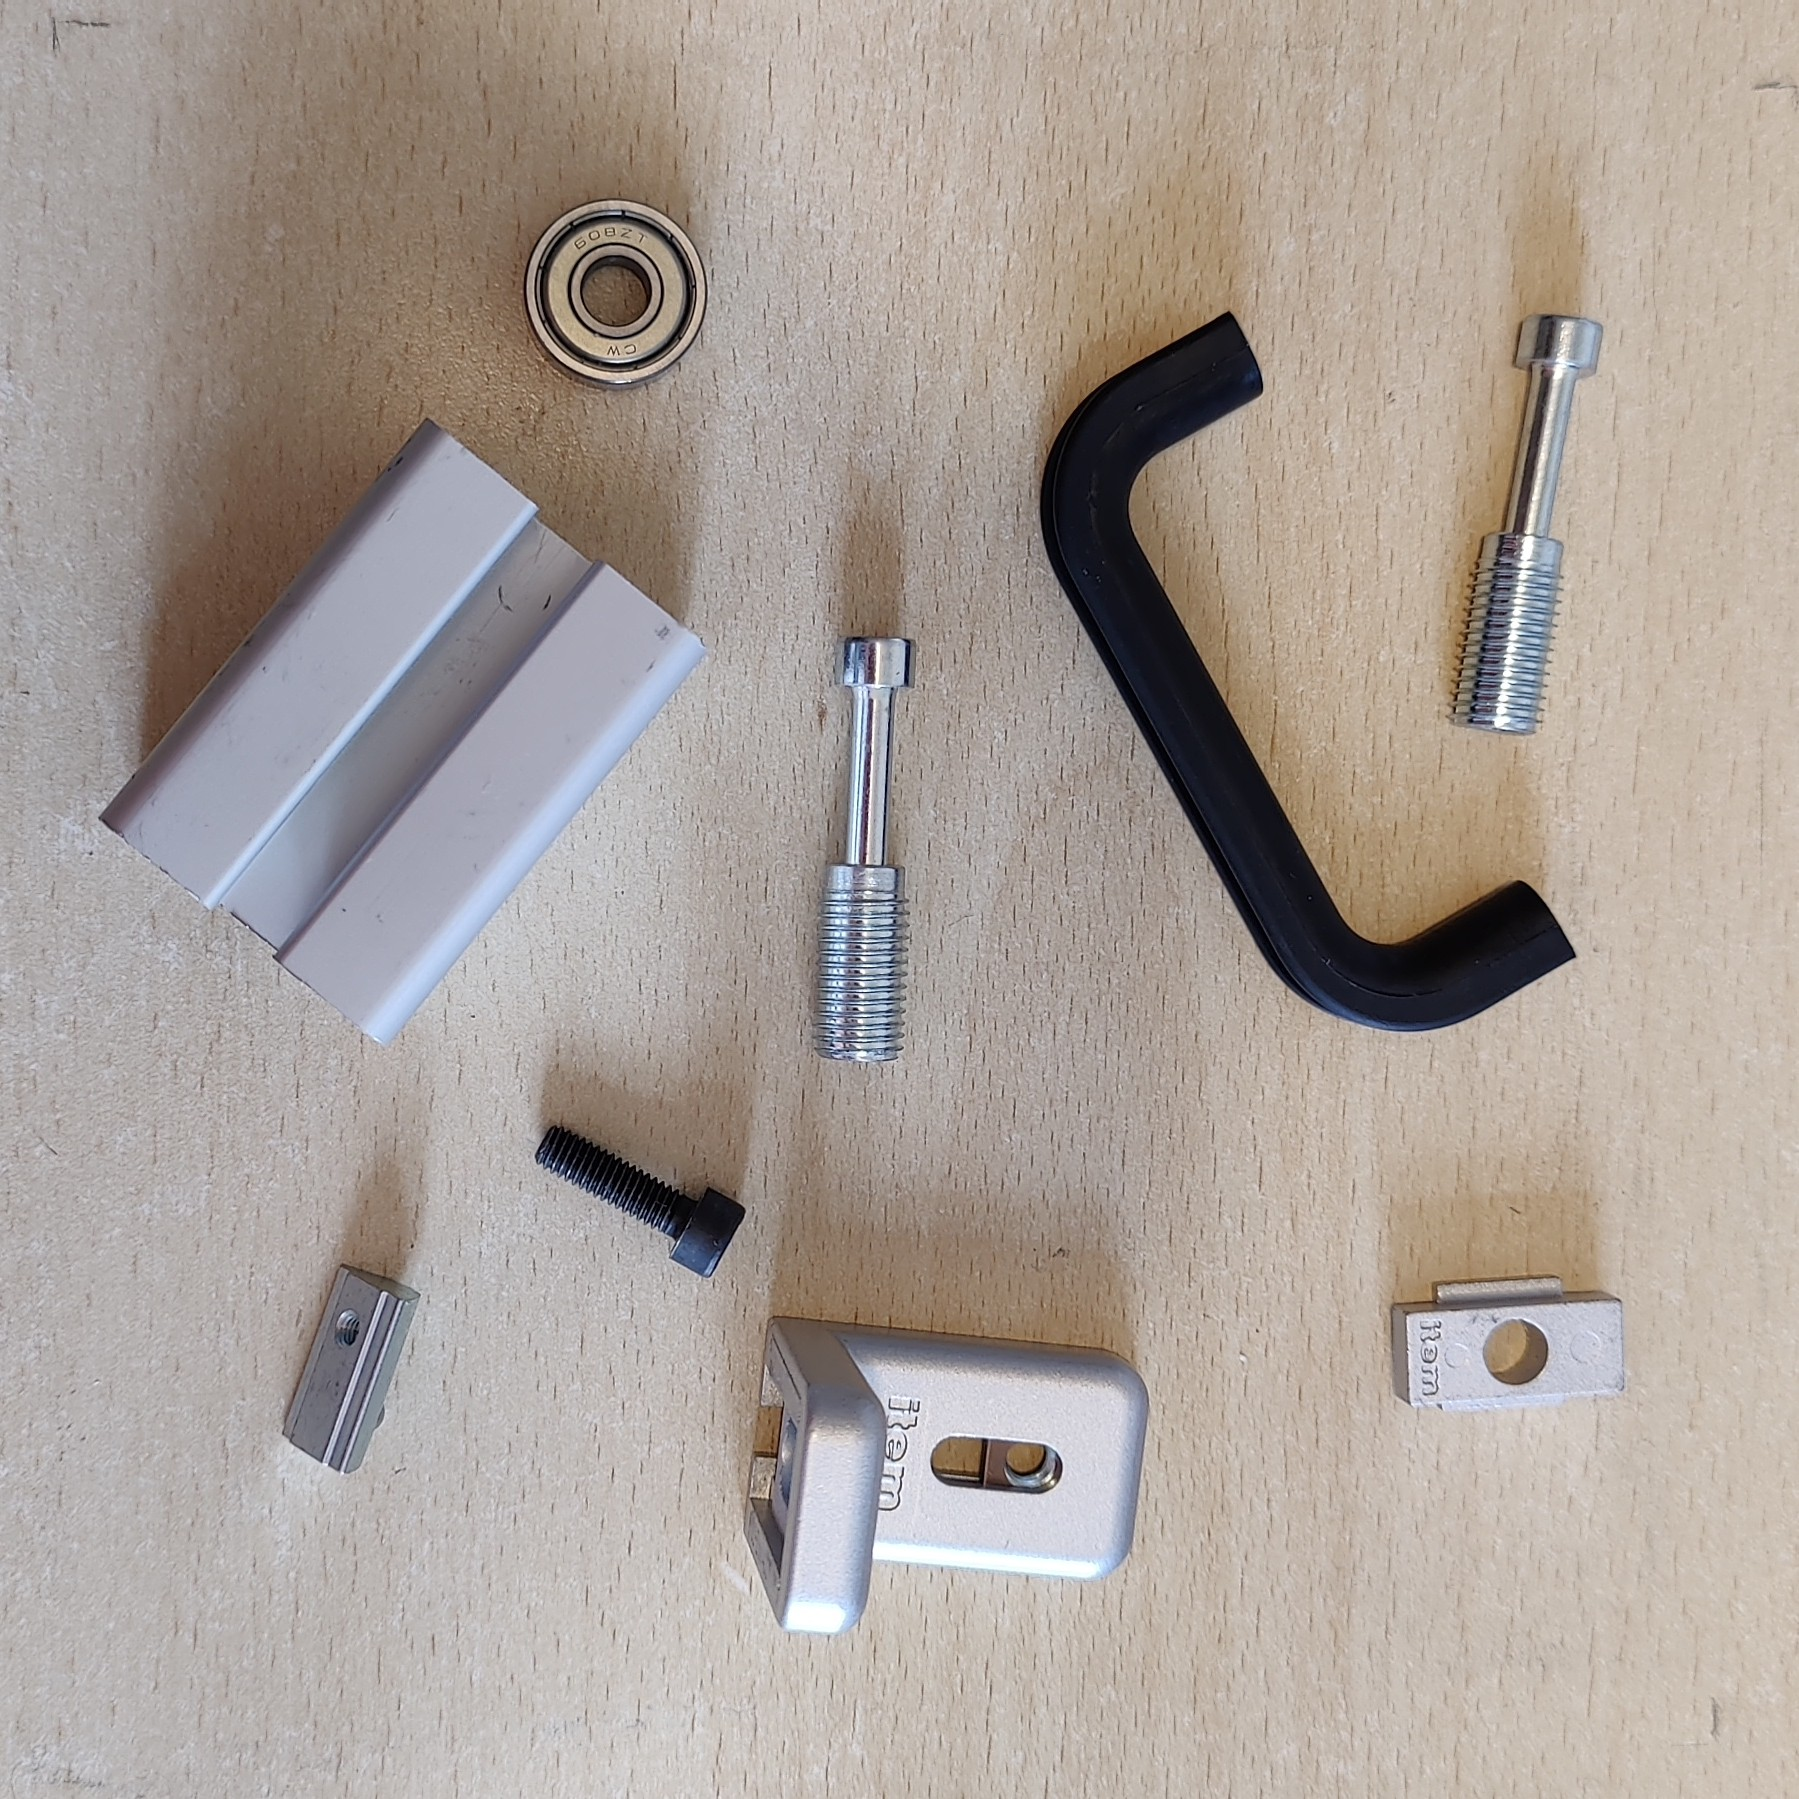Aluminium Extension: (97, 414, 712, 1053)
Ball Bearing: (521, 193, 712, 395)
Multiwinkel: (738, 1310, 1153, 1639)
Pull Handle: (1036, 303, 1578, 1035)
Shoulder Socket Head Cap Screw: (1443, 310, 1608, 736), (806, 629, 923, 1064)
Socket Head Cap Screw: (530, 1117, 750, 1280)
T Nut Square: (1389, 1267, 1631, 1417)
T Spring Nut: (278, 1260, 423, 1479)
